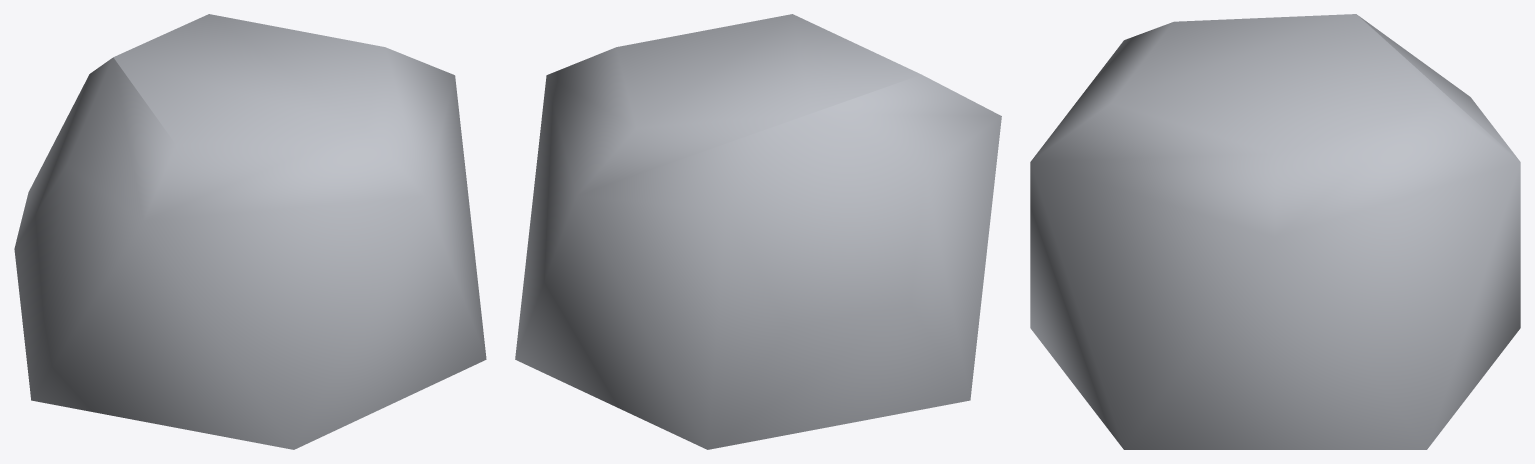
Rendered from Rock_D.fbx.
The picture shows the model from 3 angles, left to right: view 1: azimuth 30°, elevation 25°; view 2: azimuth 150°, elevation 25°; view 3: azimuth 270°, elevation 25°; orthographic projection. The views are drawn at different scales.
Parts seen in each view (by area): view 1: Rock_D; view 2: Rock_D; view 3: Rock_D.
Boxes of the visible parts, bbox=[...] form: Rock_D: bbox=[14, 14, 486, 449]; Rock_D: bbox=[515, 14, 1001, 449]; Rock_D: bbox=[1030, 14, 1520, 449].
Bounding box in the file's own units: 29.73 × 19.15 × 28.28.
